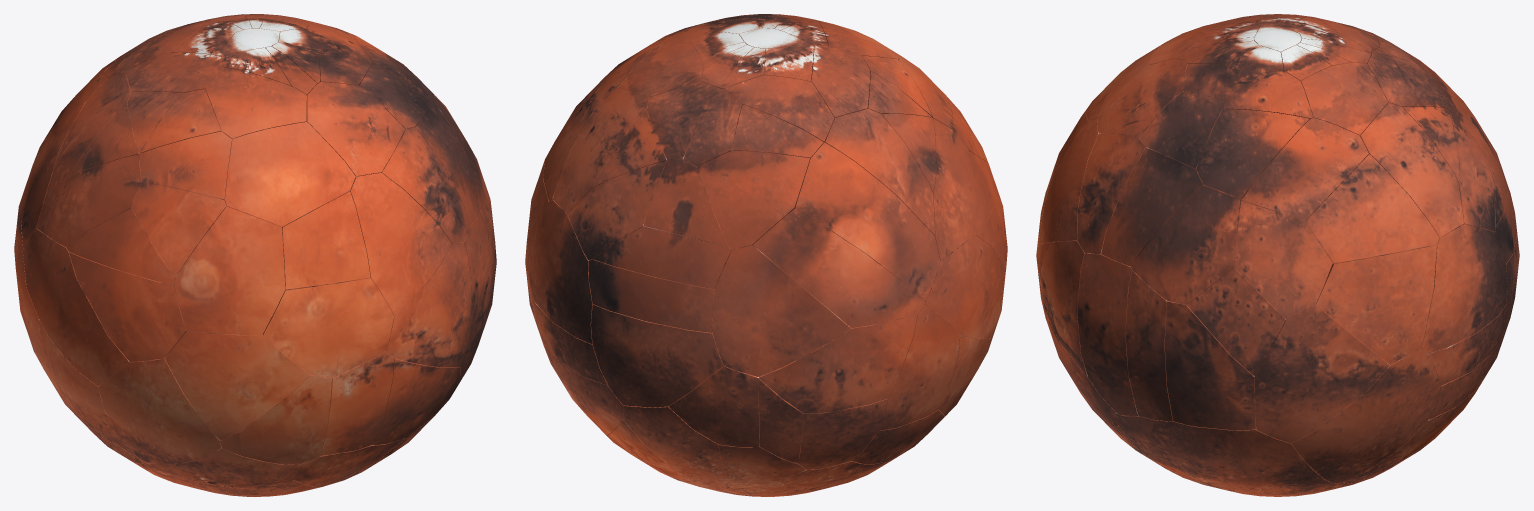
Rendered from planet.fbx.
The picture shows the model from 3 angles, left to right: view 1: azimuth 30°, elevation 25°; view 2: azimuth 150°, elevation 25°; view 3: azimuth 270°, elevation 25°; orthographic projection.
Visible parts, largest first — view 1: Sphere_cell.094, Sphere_cell.062, Sphere_cell.023, Sphere_cell.034, Sphere_cell.025, Sphere_cell.066, Sphere_cell.027, Sphere_cell.020, Sphere_cell.085, Sphere_cell.059, Sphere_cell.030, Sphere_cell.038 (+37 smaller); view 2: Sphere_cell.039, Sphere_cell.011, Sphere_cell.055, Sphere_cell.041, Sphere_cell.049, Sphere_cell.074, Sphere_cell.045, Sphere_cell.027, Sphere_cell.018, Sphere_cell.082, Sphere_cell.058, Sphere_cell.021 (+43 smaller); view 3: Sphere_cell.063, Sphere_cell.024, Sphere_cell.051, Sphere_cell.014, Sphere_cell.084, Sphere_cell.096, Sphere_cell.089, Sphere_cell.045, Sphere_cell.068, Sphere_cell.022, Sphere_cell.064, Sphere_cell.053 (+36 smaller).
Boxes of the visible parts, left/top/right/bottom form: Sphere_cell.094: left=174, top=207, right=285, bottom=334; Sphere_cell.062: left=165, top=331, right=309, bottom=440; Sphere_cell.023: left=225, top=122, right=355, bottom=227; Sphere_cell.034: left=263, top=278, right=394, bottom=378; Sphere_cell.025: left=98, top=352, right=221, bottom=466; Sphere_cell.066: left=348, top=173, right=451, bottom=315; Sphere_cell.027: left=22, top=228, right=129, bottom=386; Sphere_cell.020: left=69, top=252, right=186, bottom=361; Sphere_cell.085: left=385, top=242, right=472, bottom=367; Sphere_cell.059: left=282, top=191, right=370, bottom=289; Sphere_cell.030: left=306, top=82, right=404, bottom=176; Sphere_cell.038: left=220, top=374, right=331, bottom=464; Sphere_cell.039: left=712, top=245, right=850, bottom=376; Sphere_cell.011: left=793, top=142, right=940, bottom=301; Sphere_cell.055: left=753, top=208, right=925, bottom=327; Sphere_cell.041: left=591, top=304, right=723, bottom=407; Sphere_cell.049: left=758, top=294, right=917, bottom=413; Sphere_cell.074: left=696, top=150, right=809, bottom=250; Sphere_cell.045: left=528, top=200, right=592, bottom=344; Sphere_cell.027: left=925, top=235, right=1005, bottom=338; Sphere_cell.018: left=588, top=259, right=714, bottom=332; Sphere_cell.082: left=824, top=109, right=934, bottom=235; Sphere_cell.058: left=879, top=305, right=959, bottom=430; Sphere_cell.021: left=567, top=160, right=727, bottom=260; Sphere_cell.063: left=1255, top=304, right=1389, bottom=443; Sphere_cell.024: left=1117, top=414, right=1332, bottom=494; Sphere_cell.051: left=1291, top=347, right=1440, bottom=483; Sphere_cell.014: left=1316, top=245, right=1436, bottom=364; Sphere_cell.084: left=1305, top=154, right=1439, bottom=263; Sphere_cell.096: left=1164, top=301, right=1255, bottom=430; Sphere_cell.089: left=1130, top=185, right=1240, bottom=304; Sphere_cell.045: left=1420, top=224, right=1507, bottom=353; Sphere_cell.068: left=1234, top=200, right=1332, bottom=319; Sphere_cell.022: left=1241, top=117, right=1368, bottom=221; Sphere_cell.064: left=1077, top=253, right=1138, bottom=415; Sphere_cell.053: left=1360, top=102, right=1463, bottom=237.
Size of the model in its own units: 200 by 200 by 200.
Materials: 1 (1 with a texture image).
